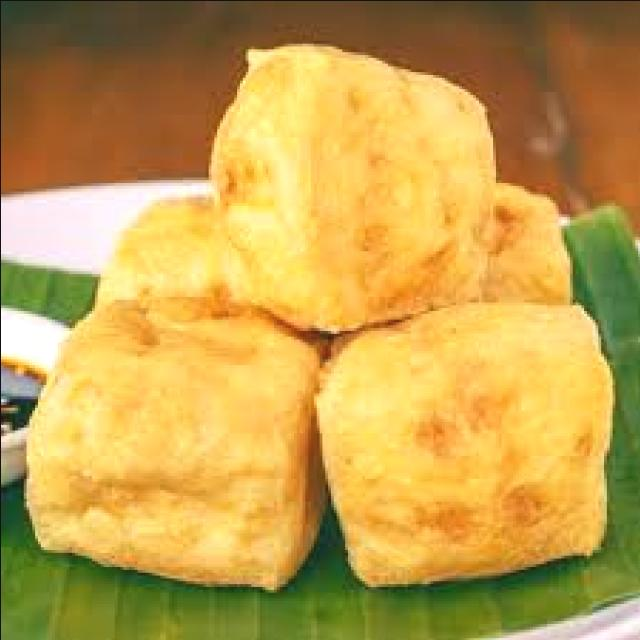tahu goreng: (20, 296, 327, 592), (313, 302, 614, 592), (210, 43, 495, 330)
